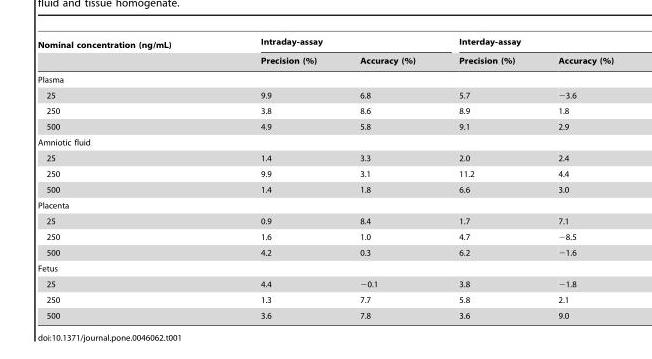table: (36, 37, 613, 319)
table column: (36, 37, 215, 319), (215, 37, 337, 319), (337, 37, 436, 319), (436, 37, 535, 319), (535, 37, 613, 319)
table column header: (36, 37, 613, 69)
table projected row header: (36, 69, 613, 87), (36, 134, 613, 150), (36, 197, 613, 213), (36, 260, 613, 276)
table row: (36, 69, 613, 87), (36, 52, 613, 69), (36, 87, 613, 103), (36, 118, 613, 134), (36, 134, 613, 150), (36, 165, 613, 181), (36, 181, 613, 197), (36, 197, 613, 213), (36, 228, 613, 244), (36, 244, 613, 260), (36, 260, 613, 276), (36, 291, 613, 307), (36, 37, 613, 52), (36, 103, 613, 118), (36, 150, 613, 165), (36, 213, 613, 228), (36, 276, 613, 291), (36, 307, 613, 319)
table spanning cell: (36, 37, 215, 69), (215, 37, 436, 52), (436, 37, 613, 52)
